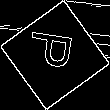P_E: (27, 32, 83, 78)
